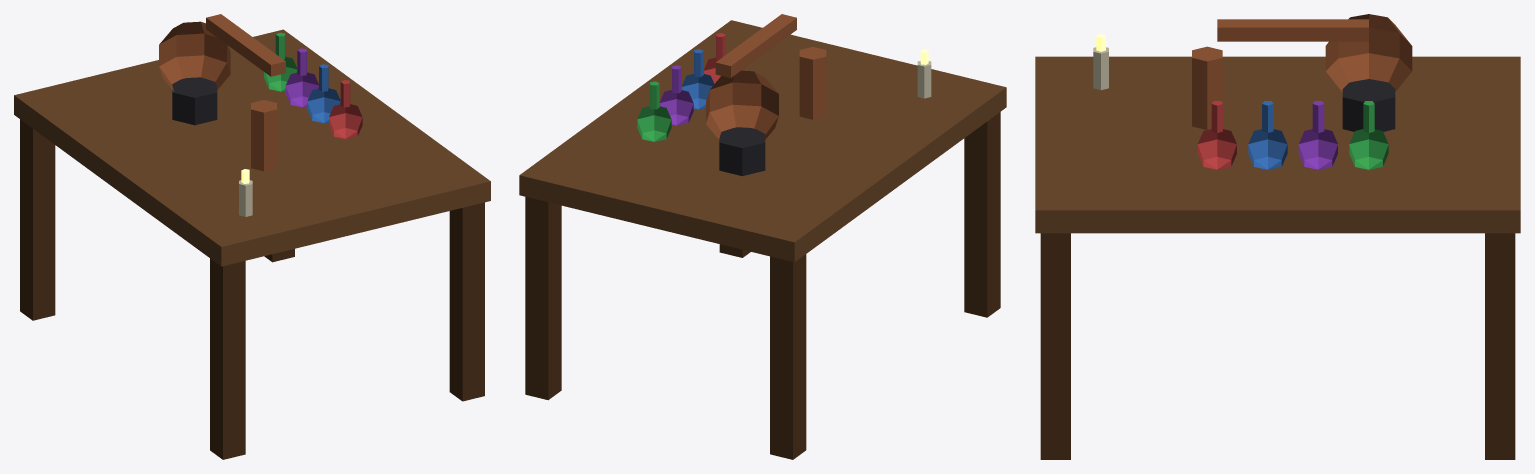
The model's file is lab-bench.glb.
The picture shows the model from 3 angles, left to right: view 1: azimuth 30°, elevation 25°; view 2: azimuth 150°, elevation 25°; view 3: azimuth 270°, elevation 25°; orthographic projection. The views are drawn at different scales.
Parts seen in each view (by area): view 1: lab-bench; view 2: lab-bench; view 3: lab-bench.
Part boxes in pixels (box(x1,y1,x2,y2)): lab-bench: box(14, 14, 490, 459); lab-bench: box(519, 14, 1006, 459); lab-bench: box(1035, 14, 1520, 459).
Size of the model in its own units: 0.72 by 0.79 by 0.96.
